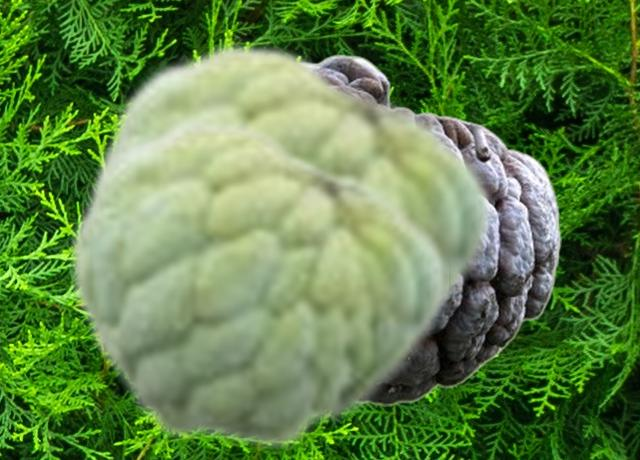atis: (65, 115, 447, 453), (91, 38, 493, 327), (316, 53, 560, 405)
